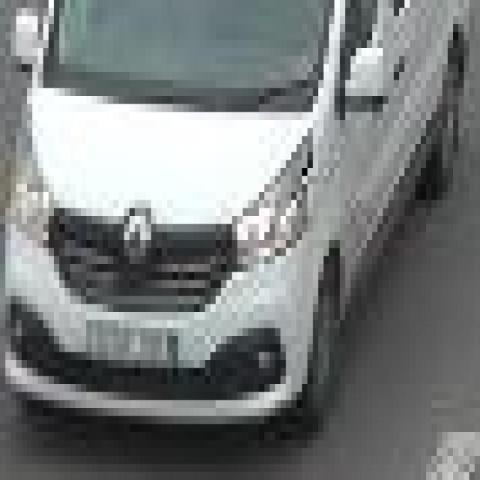van: (2, 0, 472, 448)
